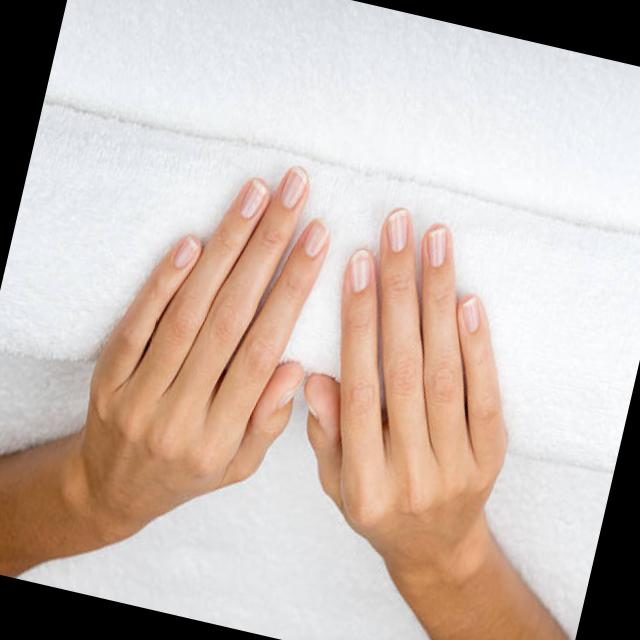Nail: (278, 164, 306, 208), (239, 177, 267, 217), (385, 207, 407, 251), (348, 248, 370, 292), (302, 219, 327, 256), (171, 234, 196, 268), (425, 226, 445, 267), (460, 295, 479, 332)
